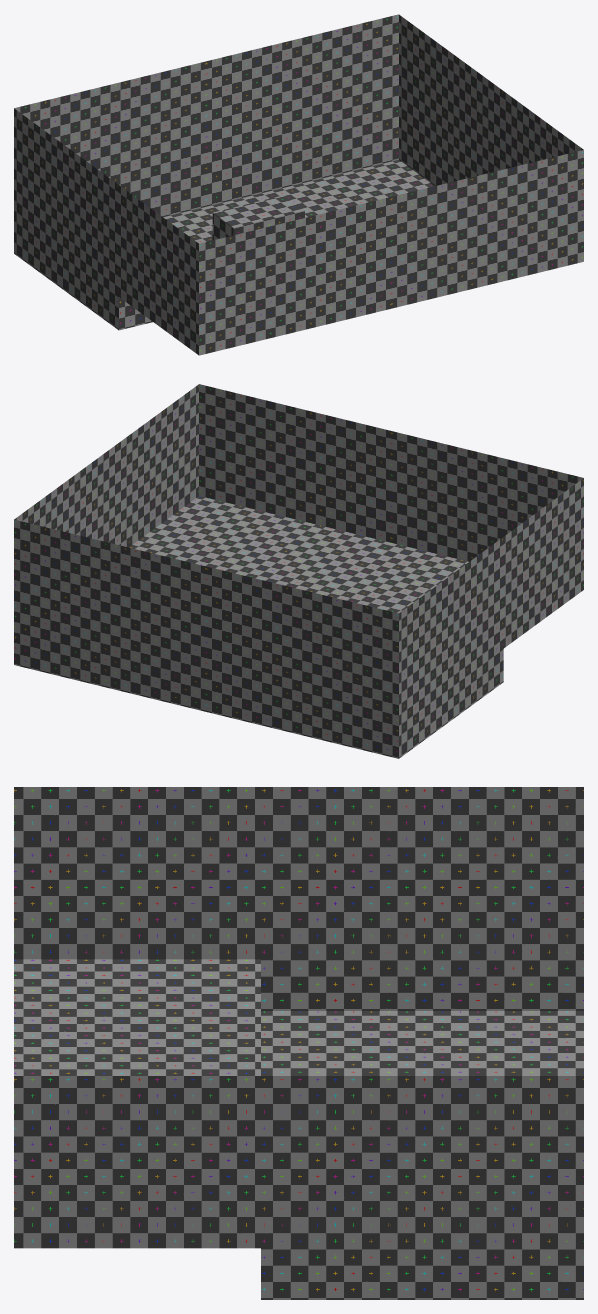
File: stage.glb
3 views of the same model, one above another, from view 1: azimuth 30°, elevation 25°; view 2: azimuth 150°, elevation 25°; view 3: azimuth 270°, elevation 25° (orthographic). The views are drawn at different scales.
Visible parts, largest first — view 1: Main; view 2: Main; view 3: Main.
Boxes of the visible parts, x1,y1,x2,y2 form: Main: (14, 14, 583, 355); Main: (14, 384, 583, 758); Main: (14, 787, 583, 1299).
Size of the model in its own units: 18 by 6.5 by 15.
Materials: 1 (1 with a texture image).
